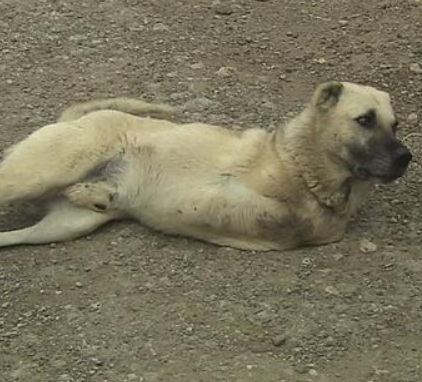dog: (0, 80, 414, 254)
